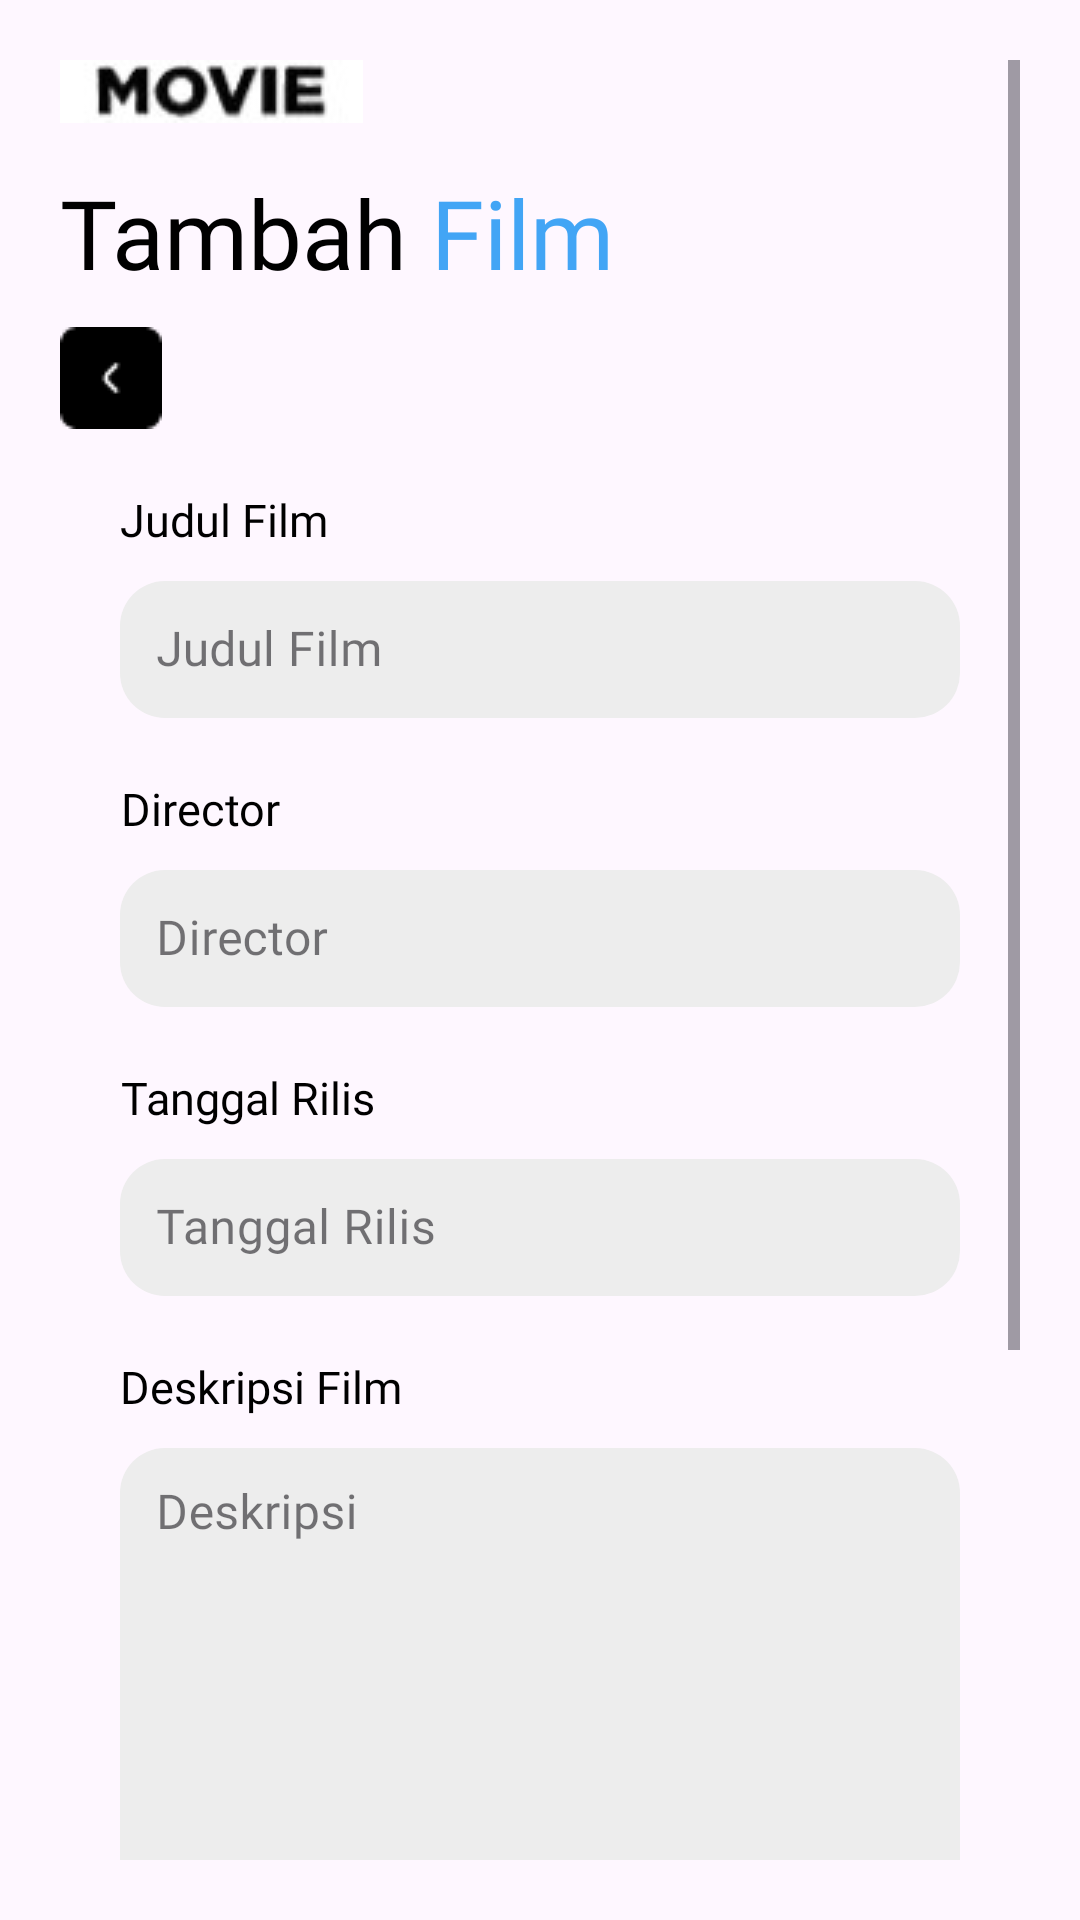

Icons on this 1080x1920 Android screen, each with its box as (x1, y1, x2, y2):
Back: (60, 327, 162, 429)
